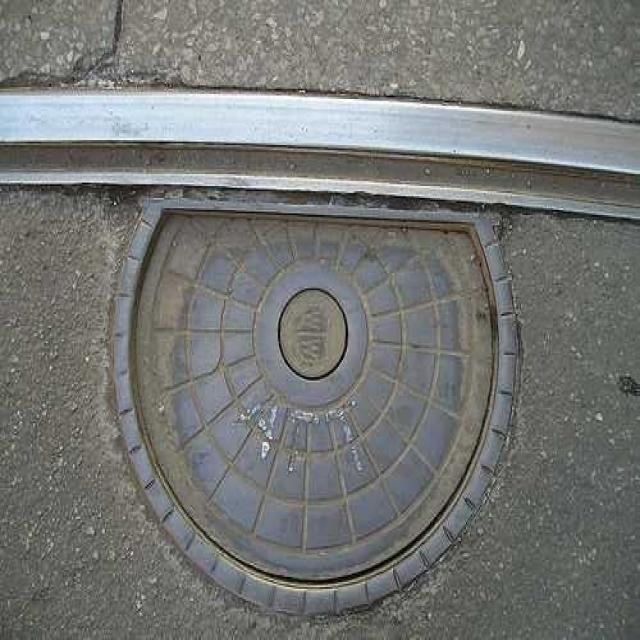manhole: (115, 200, 519, 613)
